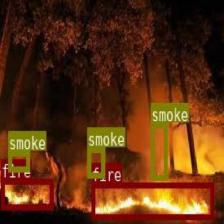fire: (91, 182, 213, 218), (0, 178, 52, 208)
smoke: (150, 121, 167, 179), (87, 146, 104, 178), (8, 150, 29, 170)
